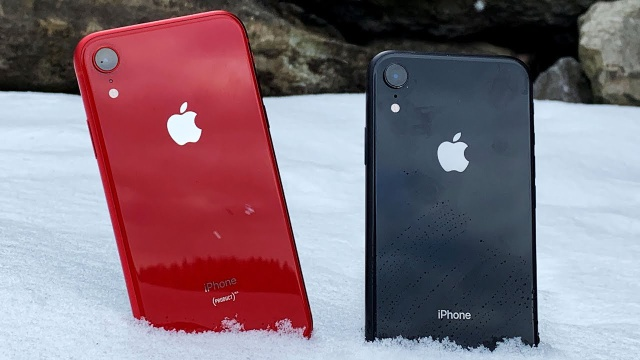apple: (158, 97, 217, 168), (425, 122, 474, 193)
